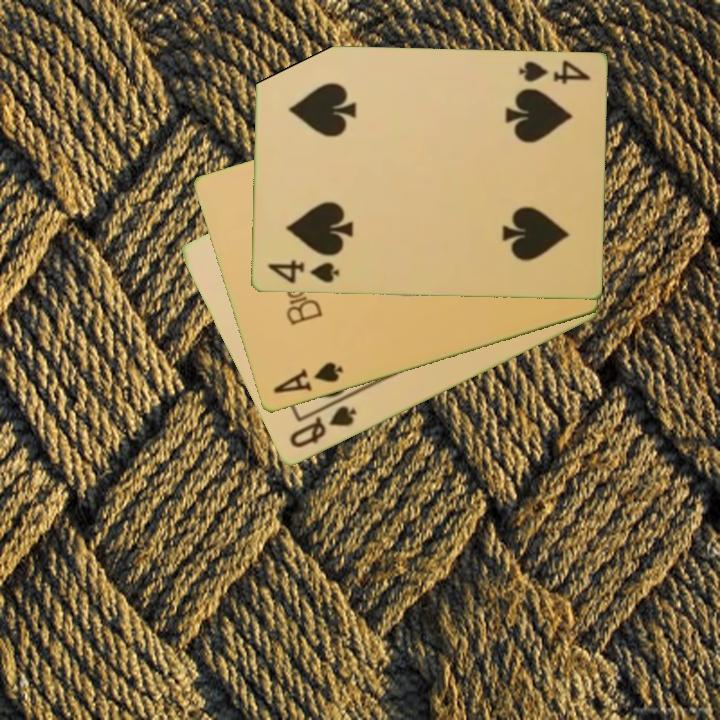4s: (514, 57, 592, 87), (264, 256, 341, 286)
As: (269, 358, 346, 397)
Qs: (285, 402, 360, 452)
